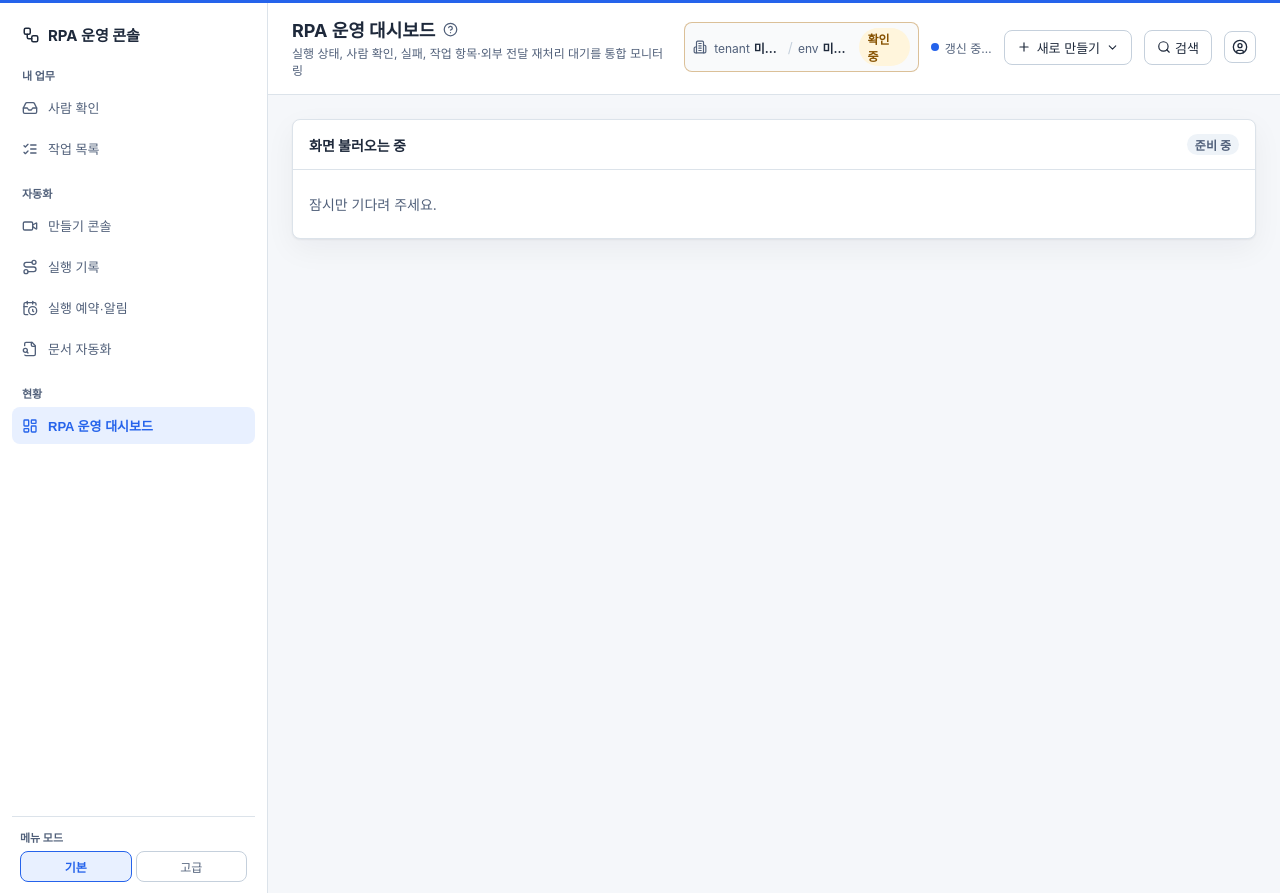
Test: layout subject chip › shows the current account identifier in the account popover
Click the button named "계정 메뉴": [1240, 47] box [1224,31,1256,63]
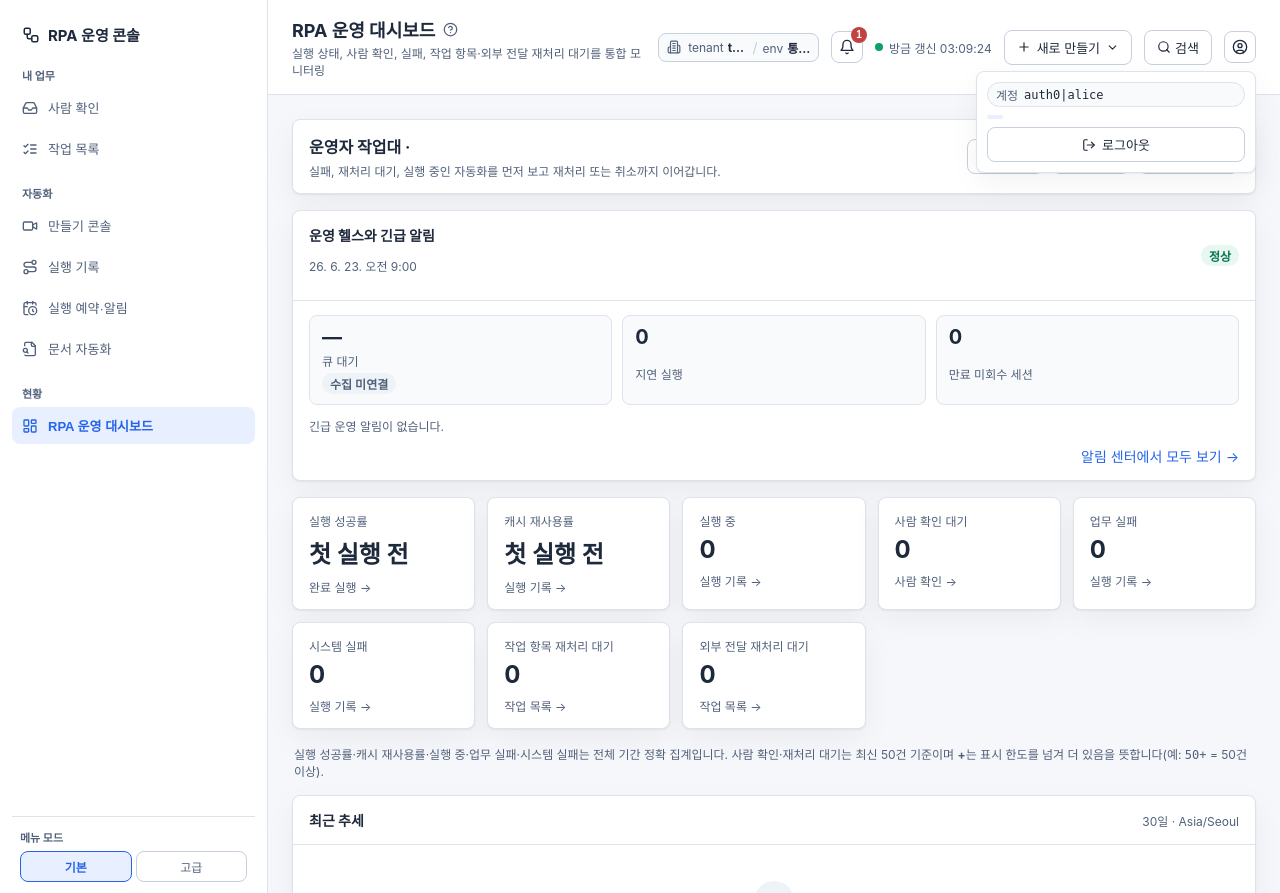
Result: the element named "현재 접속 계정 auth0|alice" is shown at [987,82,1245,107]
Result: the text "auth0|alice" is shown at [1024,88,1104,102]
